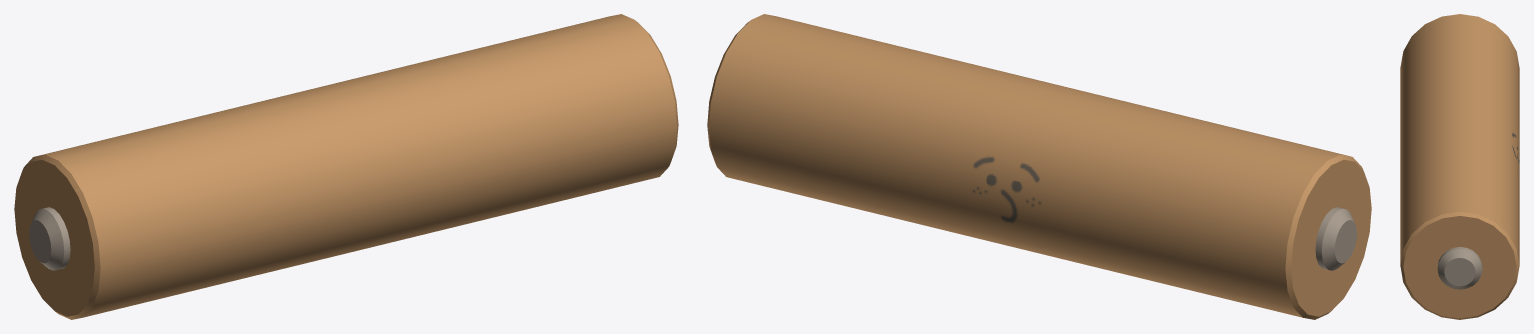
File: Oden_Goboten.gltf
3 renders of one model, left to right at view 1: azimuth 30°, elevation 25°; view 2: azimuth 150°, elevation 25°; view 3: azimuth 270°, elevation 25°, orthographic. The views are drawn at different scales.
Visible parts, largest first — view 1: Oden_Goboten; view 2: Oden_Goboten; view 3: Oden_Goboten.
Part boxes in pixels (x1=…): Oden_Goboten: x1=14, y1=14, x2=678, y2=319; Oden_Goboten: x1=707, y1=14, x2=1371, y2=319; Oden_Goboten: x1=1400, y1=14, x2=1519, y2=319.
Size of the model in its own units: 3.33 by 0.7993 by 0.799.
1 material, 1 textured.
